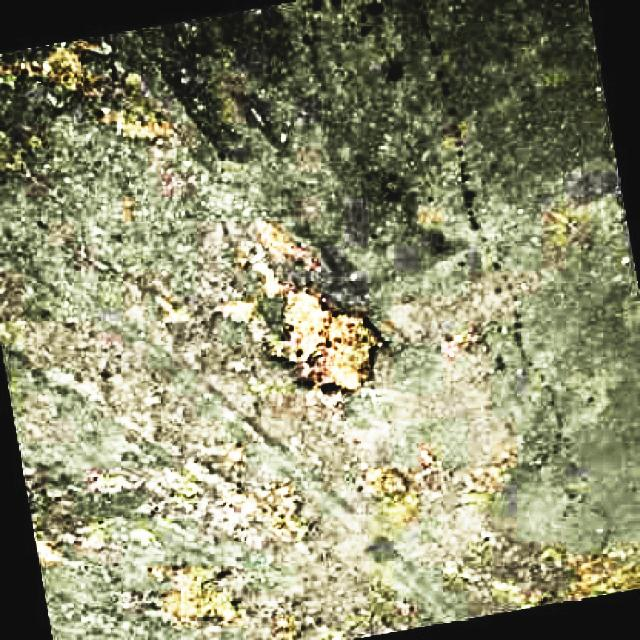pothole: (283, 288, 382, 395)
